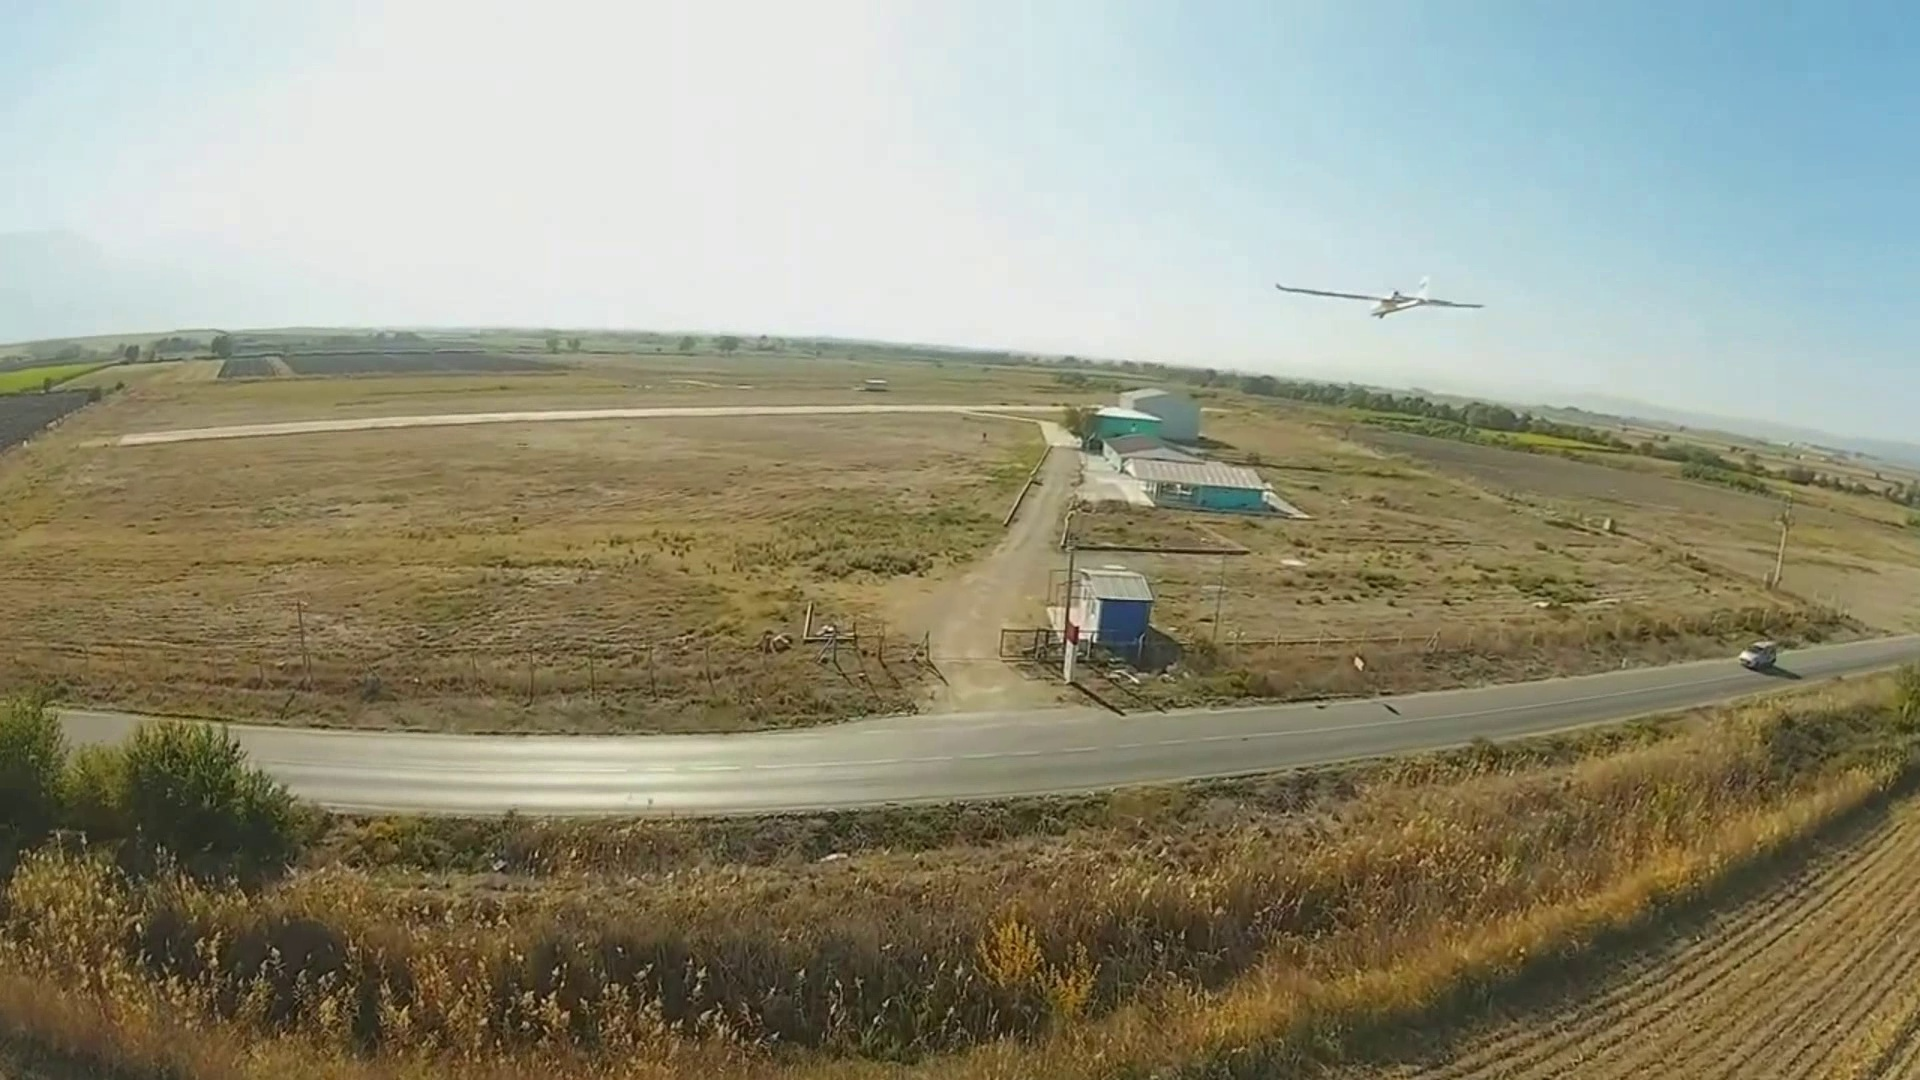airplane: (1270, 266, 1485, 319)
